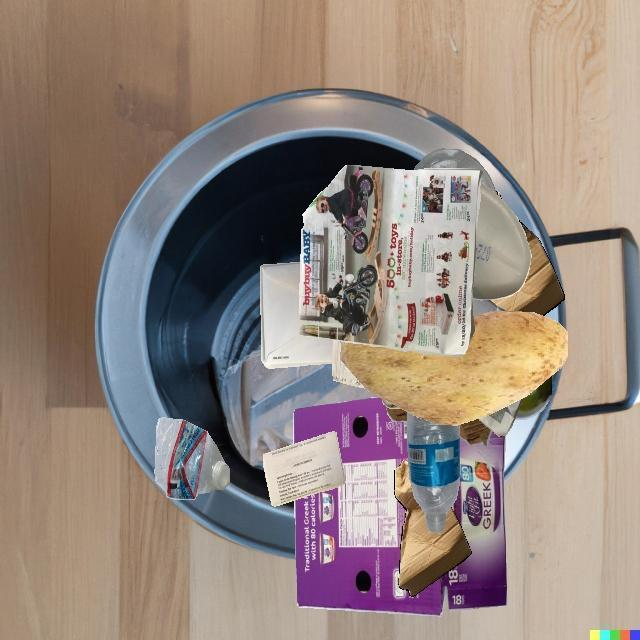biowaste: (340, 311, 568, 425)
cardboard: (293, 397, 507, 616), (394, 460, 471, 597), (490, 220, 565, 316), (459, 418, 492, 446), (386, 406, 407, 422)
glass: (515, 375, 552, 419), (382, 398, 401, 409)
paper: (299, 165, 482, 356), (260, 262, 333, 368), (263, 431, 345, 507), (332, 339, 366, 389), (479, 398, 523, 436), (473, 299, 508, 317)
plastic: (473, 182, 531, 300), (407, 412, 460, 533), (155, 417, 230, 500), (413, 149, 497, 195)
